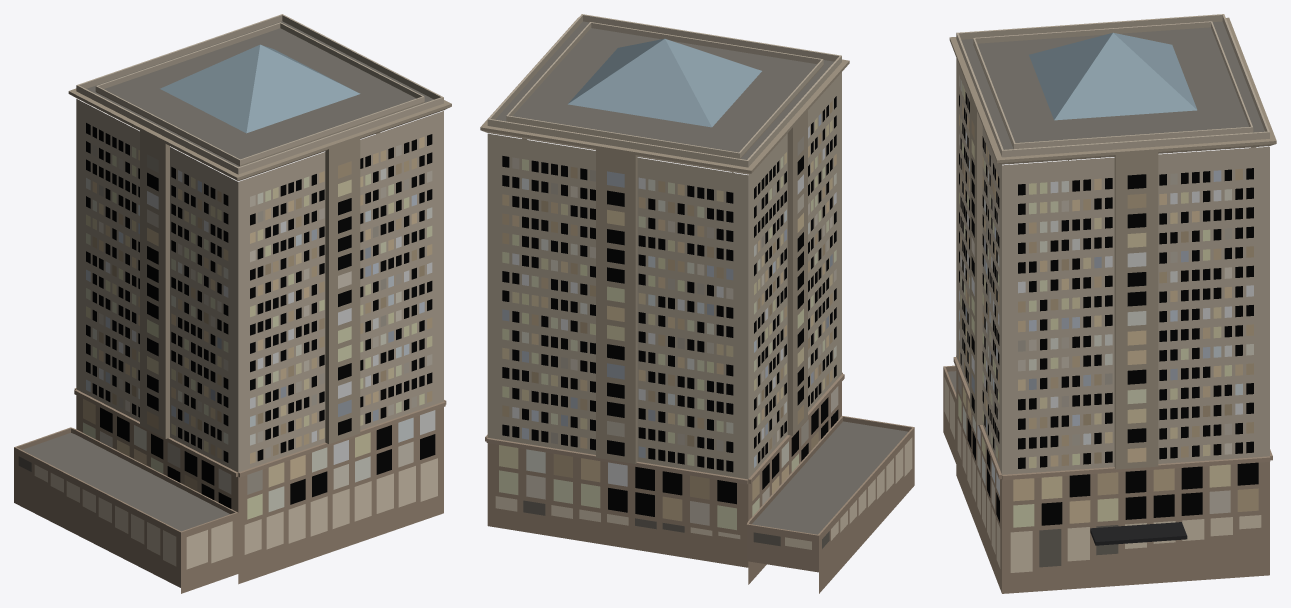
Rendered from jwMarriott_lod1.glb.
3 views of the same model, side by side, from view 1: azimuth 30°, elevation 25°; view 2: azimuth 150°, elevation 25°; view 3: azimuth 270°, elevation 25° (orthographic). The views are drawn at different scales.
Visible parts, largest first — view 1: L1_concrete, L1_win, L1_granite, L1_roof, L1_shop, L1_glassc; view 2: L1_concrete, L1_win, L1_granite, L1_roof, L1_glassc, L1_shop; view 3: L1_concrete, L1_win, L1_granite, L1_roof, L1_glassc, L1_shop, L1_metal.
Boxes of the visible parts, <box> form: L1_concrete: <box>68,14,451,472</box>; L1_win: <box>83,123,435,519</box>; L1_granite: <box>14,388,446,593</box>; L1_roof: <box>22,21,433,531</box>; L1_shop: <box>18,456,437,569</box>; L1_glassc: <box>160,44,360,133</box>; L1_concrete: <box>480,14,849,479</box>; L1_win: <box>499,96,838,530</box>; L1_granite: <box>485,372,914,593</box>; L1_roof: <box>495,21,908,534</box>; L1_glassc: <box>568,38,761,127</box>; L1_shop: <box>495,437,912,549</box>; L1_concrete: <box>949,14,1276,474</box>; L1_win: <box>958,75,1258,527</box>; L1_granite: <box>943,356,1272,593</box>; L1_roof: <box>947,21,1264,393</box>; L1_glassc: <box>1029,32,1197,120</box>; L1_shop: <box>944,377,1261,572</box>; L1_metal: <box>1090,522,1187,545</box>.
Size of the model in its own units: 63.63 by 81.98 by 50.28.
